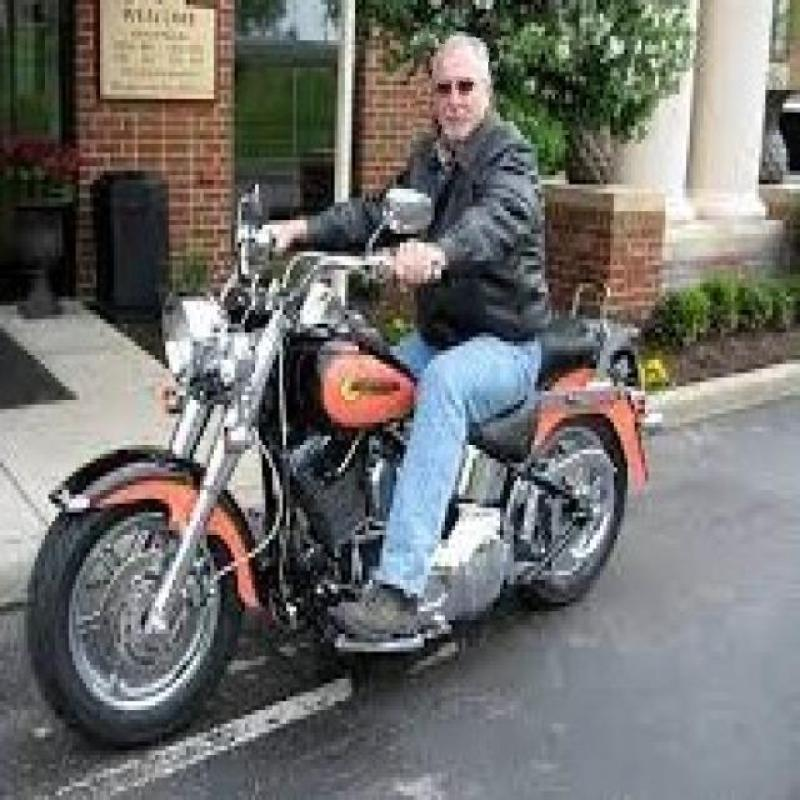nohelmet: (414, 26, 498, 152)
